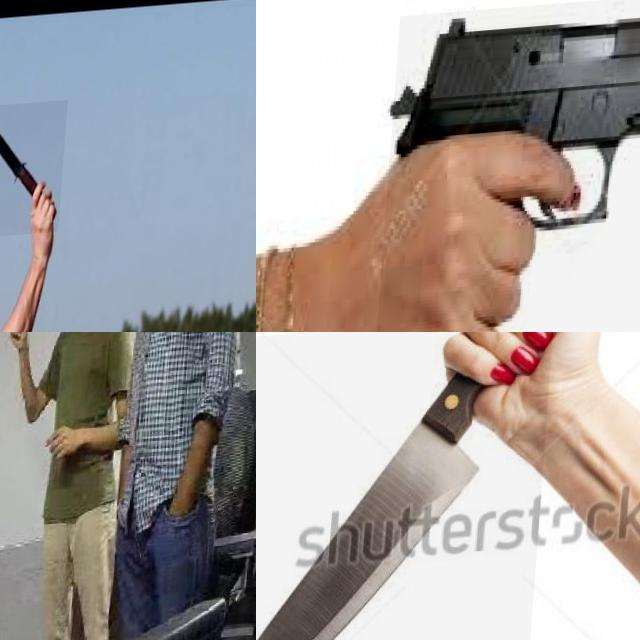-: (256, 332, 557, 640), (0, 105, 70, 243), (16, 332, 37, 366)
gun-knife-thesis - v11 Yolov5 augmented: (379, 0, 640, 332)
